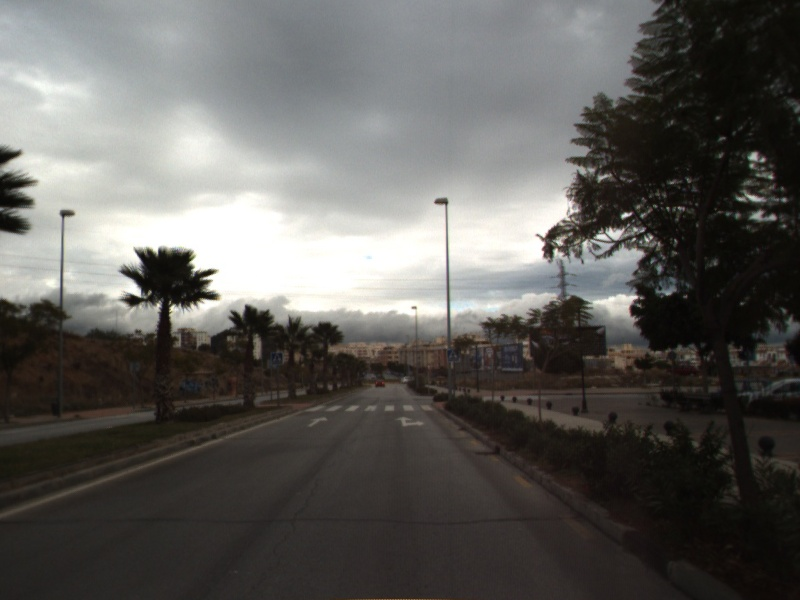STRAIGHT: (305, 415, 330, 429)
STRAIGHT_RIGHT: (393, 414, 427, 429)
